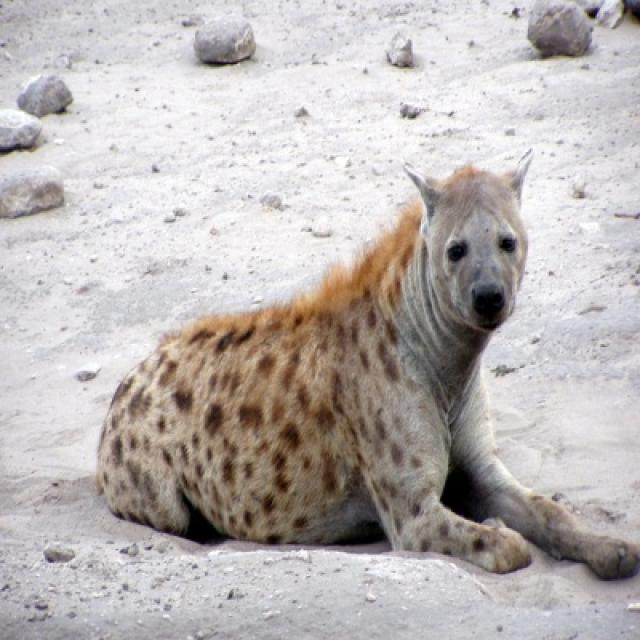hyena: (94, 157, 638, 582)
